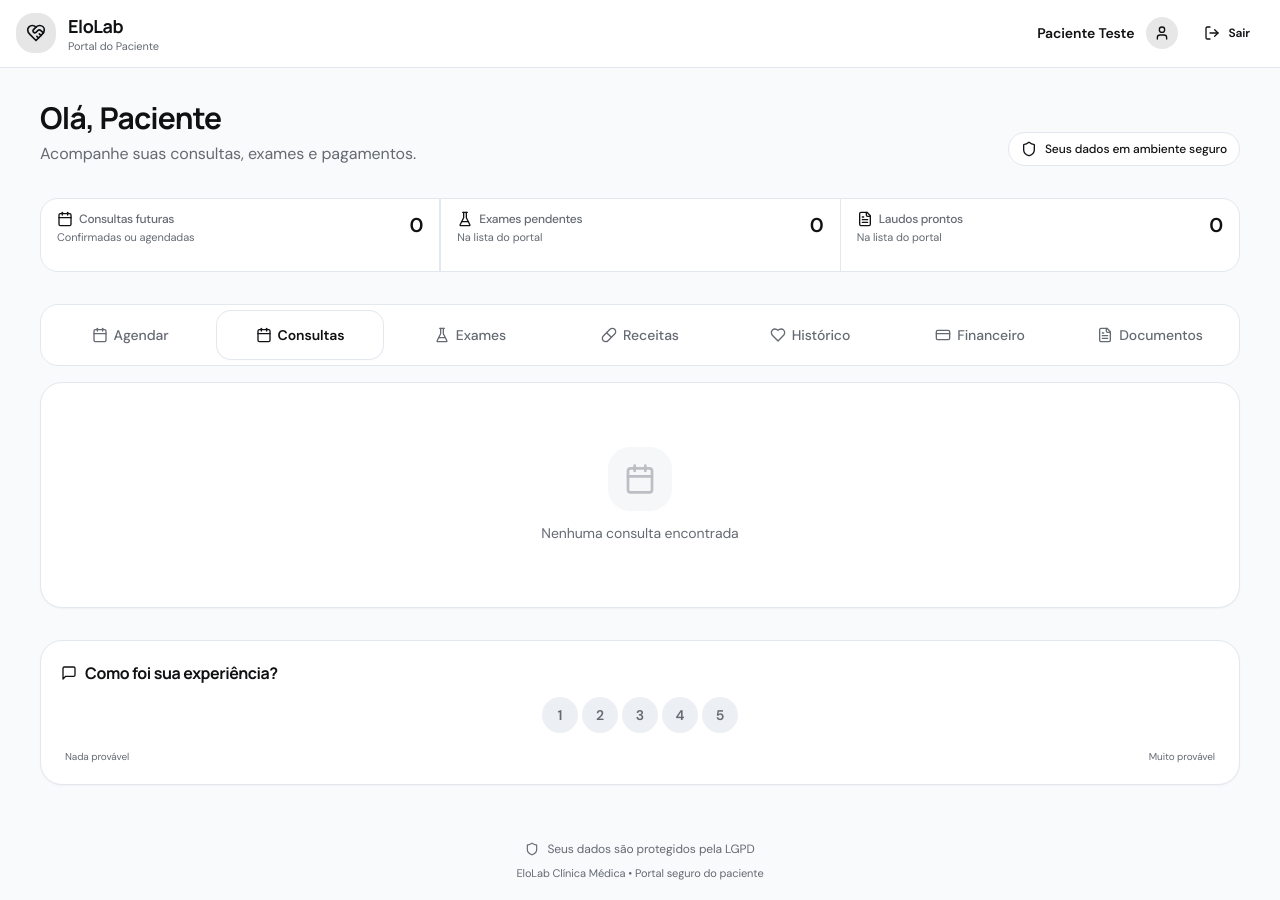
Test: documentos do portal do paciente › lista documento publicado com origem, validade e prazo do link privado
The image size is (1280, 900).
Click the tab "Documentos".
click(1150, 334)  # box 1067,310 -> 1233,358
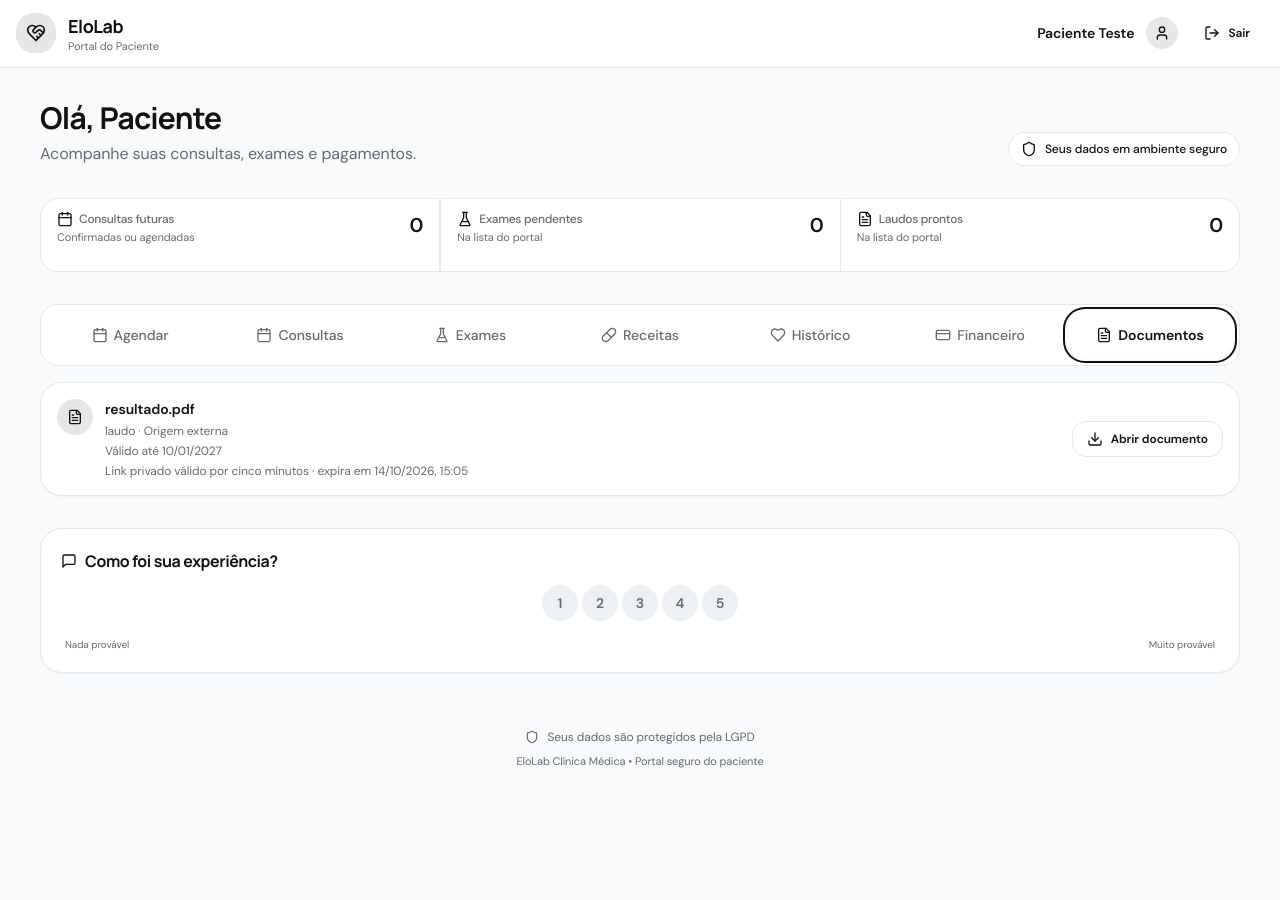
Result: the text "resultado.pdf" is shown at 105,400 -> 195,418
Result: the text "laudo · Origem externa" is shown at 105,422 -> 228,438
Result: the text "Válido até 10/01/2027" is shown at 105,442 -> 222,458
